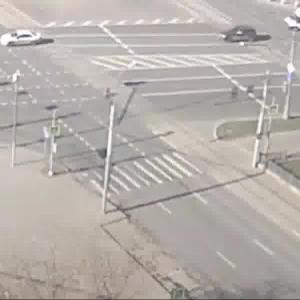car: (219, 27, 263, 47), (1, 31, 48, 47)
